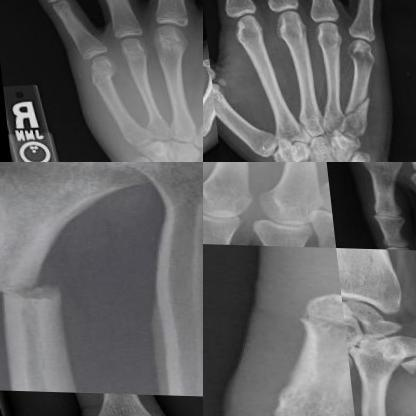fracture: (283, 303, 341, 358), (334, 88, 372, 127), (76, 63, 113, 95), (390, 348, 415, 377)
